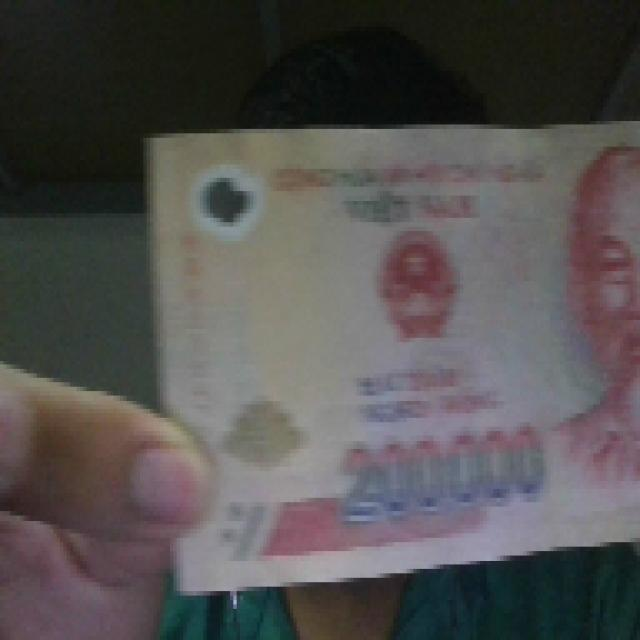200 000 VND: (140, 107, 637, 591)
